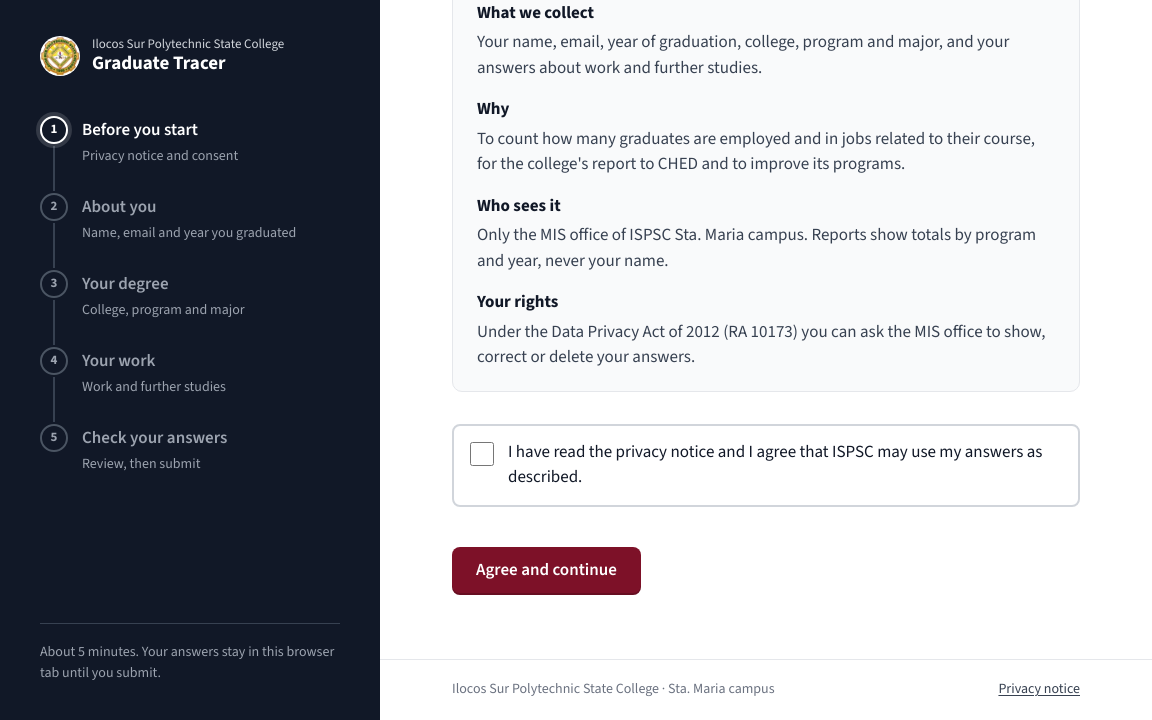
graduate survey › opens on the privacy notice and requires consent before any question
(page scrolled)
Expected: the text "RA 10173" is shown, [477,320,1045,369]
Click the button "Agree and continue".
click(546, 570)  # box [452,546,641,594]
(page scrolled)
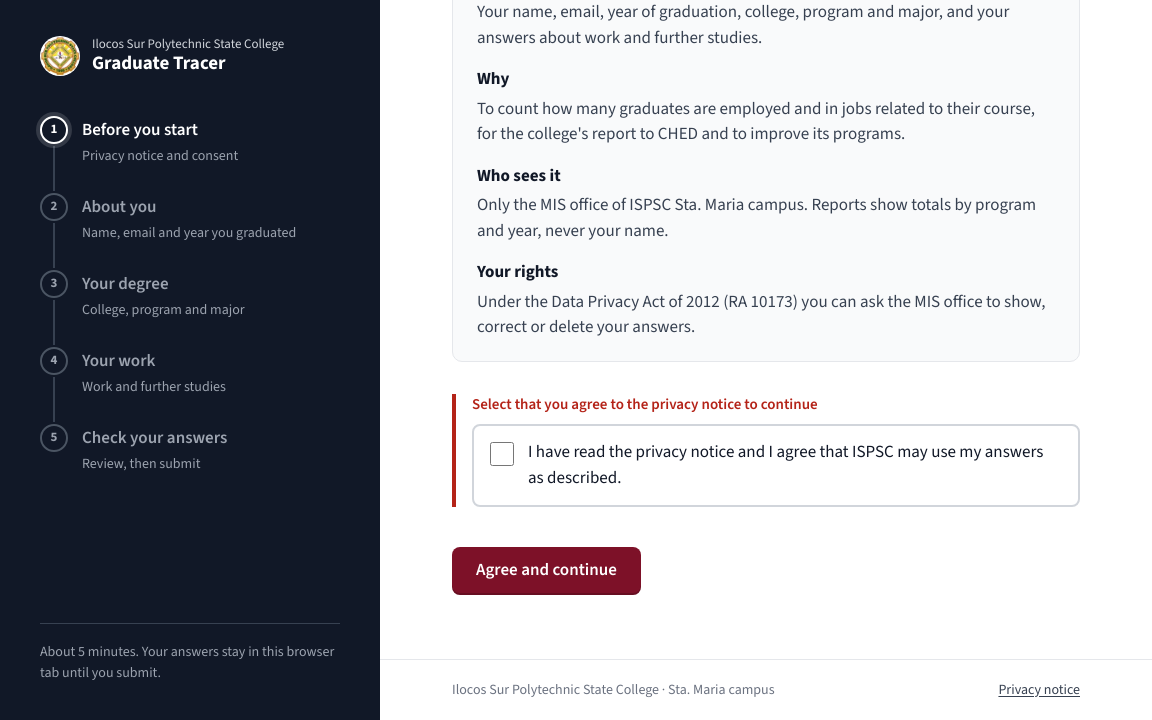
Expected: the checkbox is marked as invalid, [490,442,514,466]
